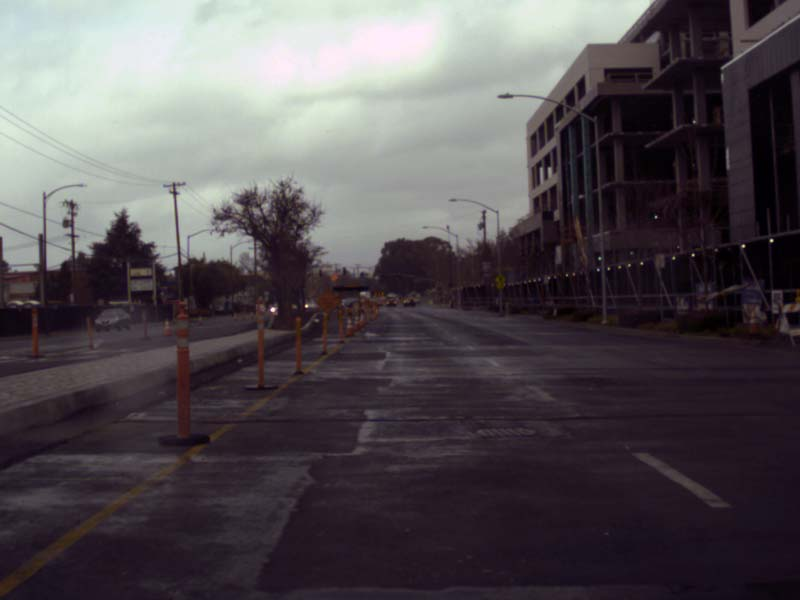Green: (360, 272, 362, 278)
Red: (398, 272, 400, 278), (438, 284, 440, 290), (381, 272, 383, 277)
